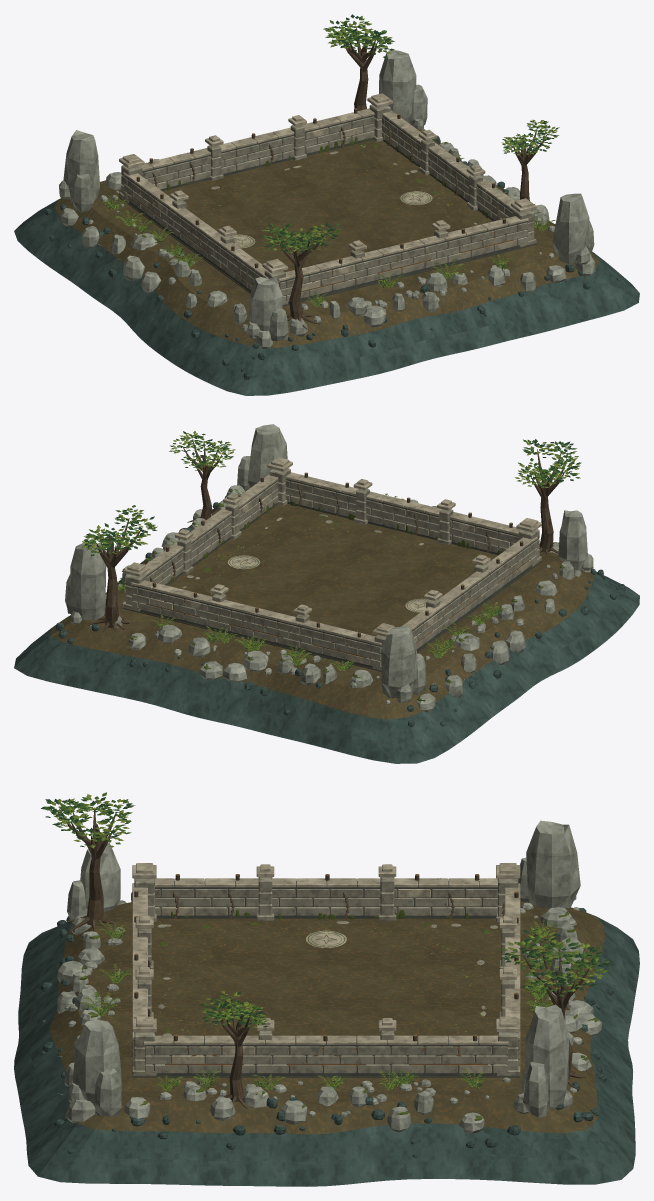
The model's file is realm_02.fbx.
The picture shows the model from 3 angles, top to bottom: view 1: azimuth 30°, elevation 25°; view 2: azimuth 150°, elevation 25°; view 3: azimuth 270°, elevation 25°; orthographic projection. The views are drawn at different scales.
Parts seen in each view (by area): view 1: realm_02__shore, realm_02__closed_walls, realm_02__combat_floor, realm_02__biome_dressing; view 2: realm_02__shore, realm_02__closed_walls, realm_02__combat_floor, realm_02__biome_dressing; view 3: realm_02__shore, realm_02__combat_floor, realm_02__closed_walls, realm_02__biome_dressing.
Part boxes in pixels (x1,y1,x2,y2): realm_02__shore: (14, 118, 639, 395); realm_02__closed_walls: (119, 93, 536, 304); realm_02__combat_floor: (118, 139, 536, 306); realm_02__biome_dressing: (59, 14, 594, 359); realm_02__shore: (14, 485, 639, 763); realm_02__closed_walls: (123, 457, 541, 670); realm_02__combat_floor: (123, 503, 542, 671); realm_02__biome_dressing: (55, 424, 605, 702); realm_02__shore: (14, 892, 639, 1186); realm_02__combat_floor: (132, 918, 520, 1077); realm_02__closed_walls: (132, 863, 520, 1075); realm_02__biome_dressing: (41, 792, 612, 1124).
Bounding box in the file's own units: 112286 × 112949 × 37631.
